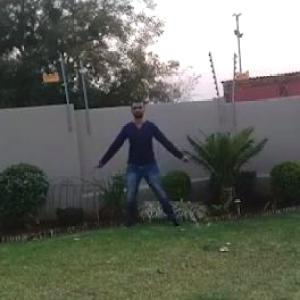land: (93, 94, 198, 233)
